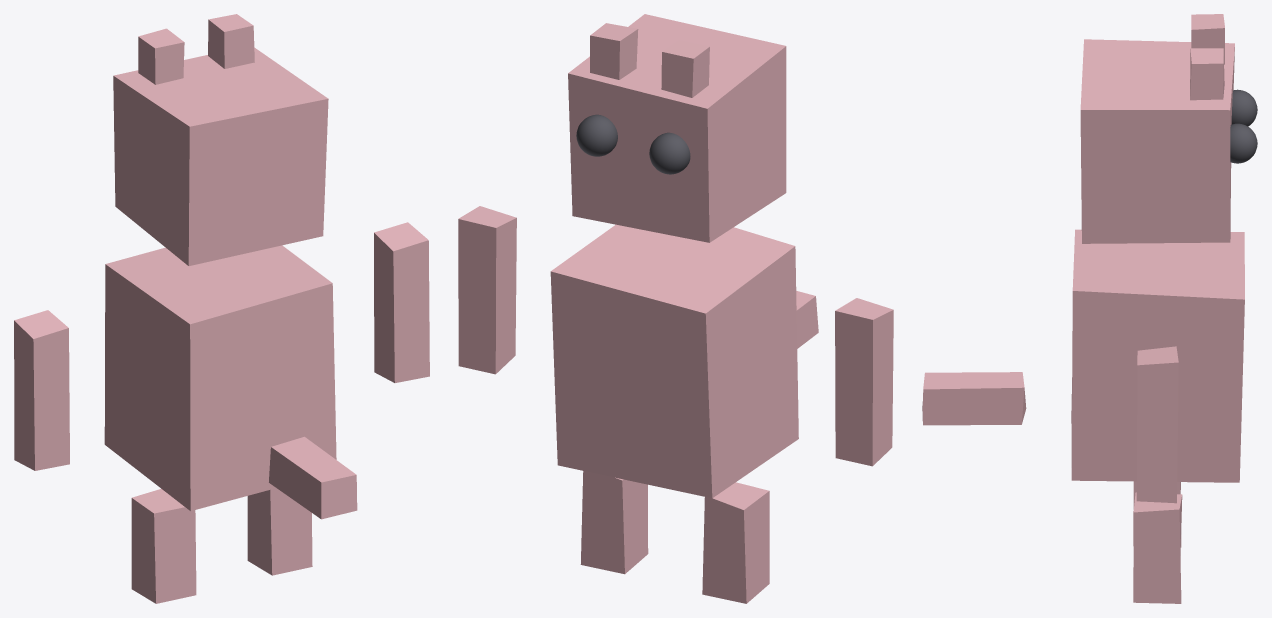
File: clay_cube_cat.glb
3 renders of one model, left to right at view 1: azimuth 30°, elevation 25°; view 2: azimuth 150°, elevation 25°; view 3: azimuth 270°, elevation 25°, orthographic. The views are drawn at different scales.
Parts seen in each view (by area): view 1: ear2; view 2: ear2; view 3: ear2.
Boxes of the visible parts, x1,y1,x2,y2 form: ear2: (14,14,429,603); ear2: (458,14,893,603); ear2: (922,14,1257,603).
Size of the model in its own units: 1.36 by 1.75 by 1.01.
